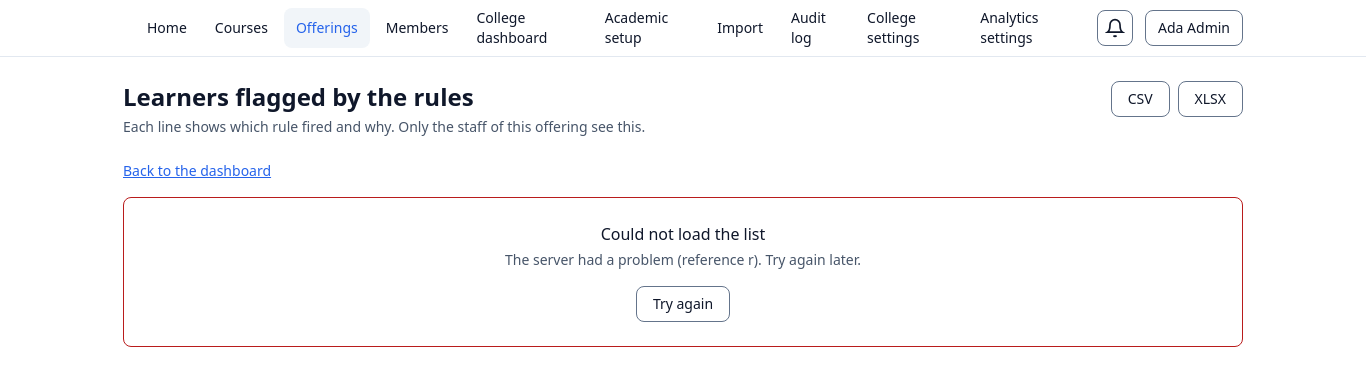
Scenario: flagged learners › shows the empty state when nobody is flagged, and an error with a retry
Expected: the text "Could not load the list" is shown, [601,223,765,245]
Click the button "Try again": (683, 304) [636,286,730,322]
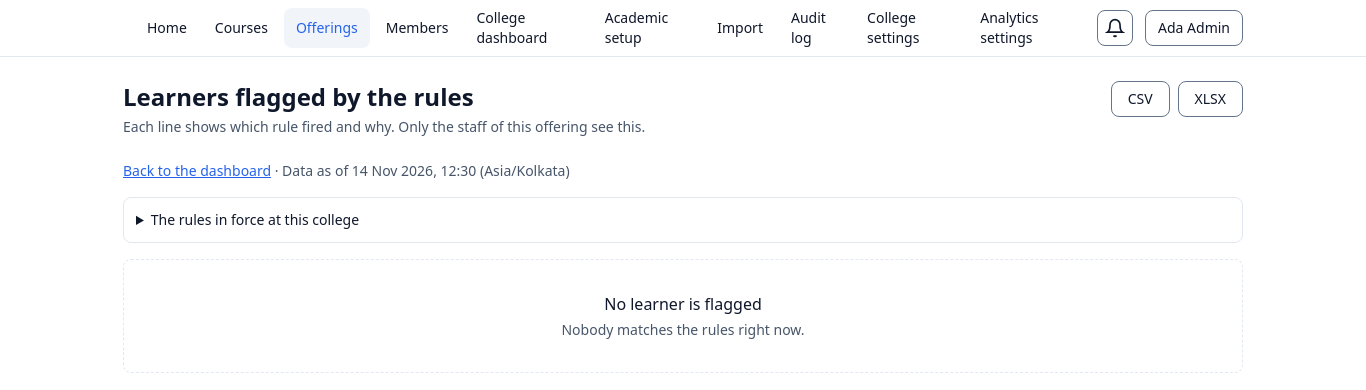
Result: the text "No learner is flagged" is shown at [604,293,762,315]
